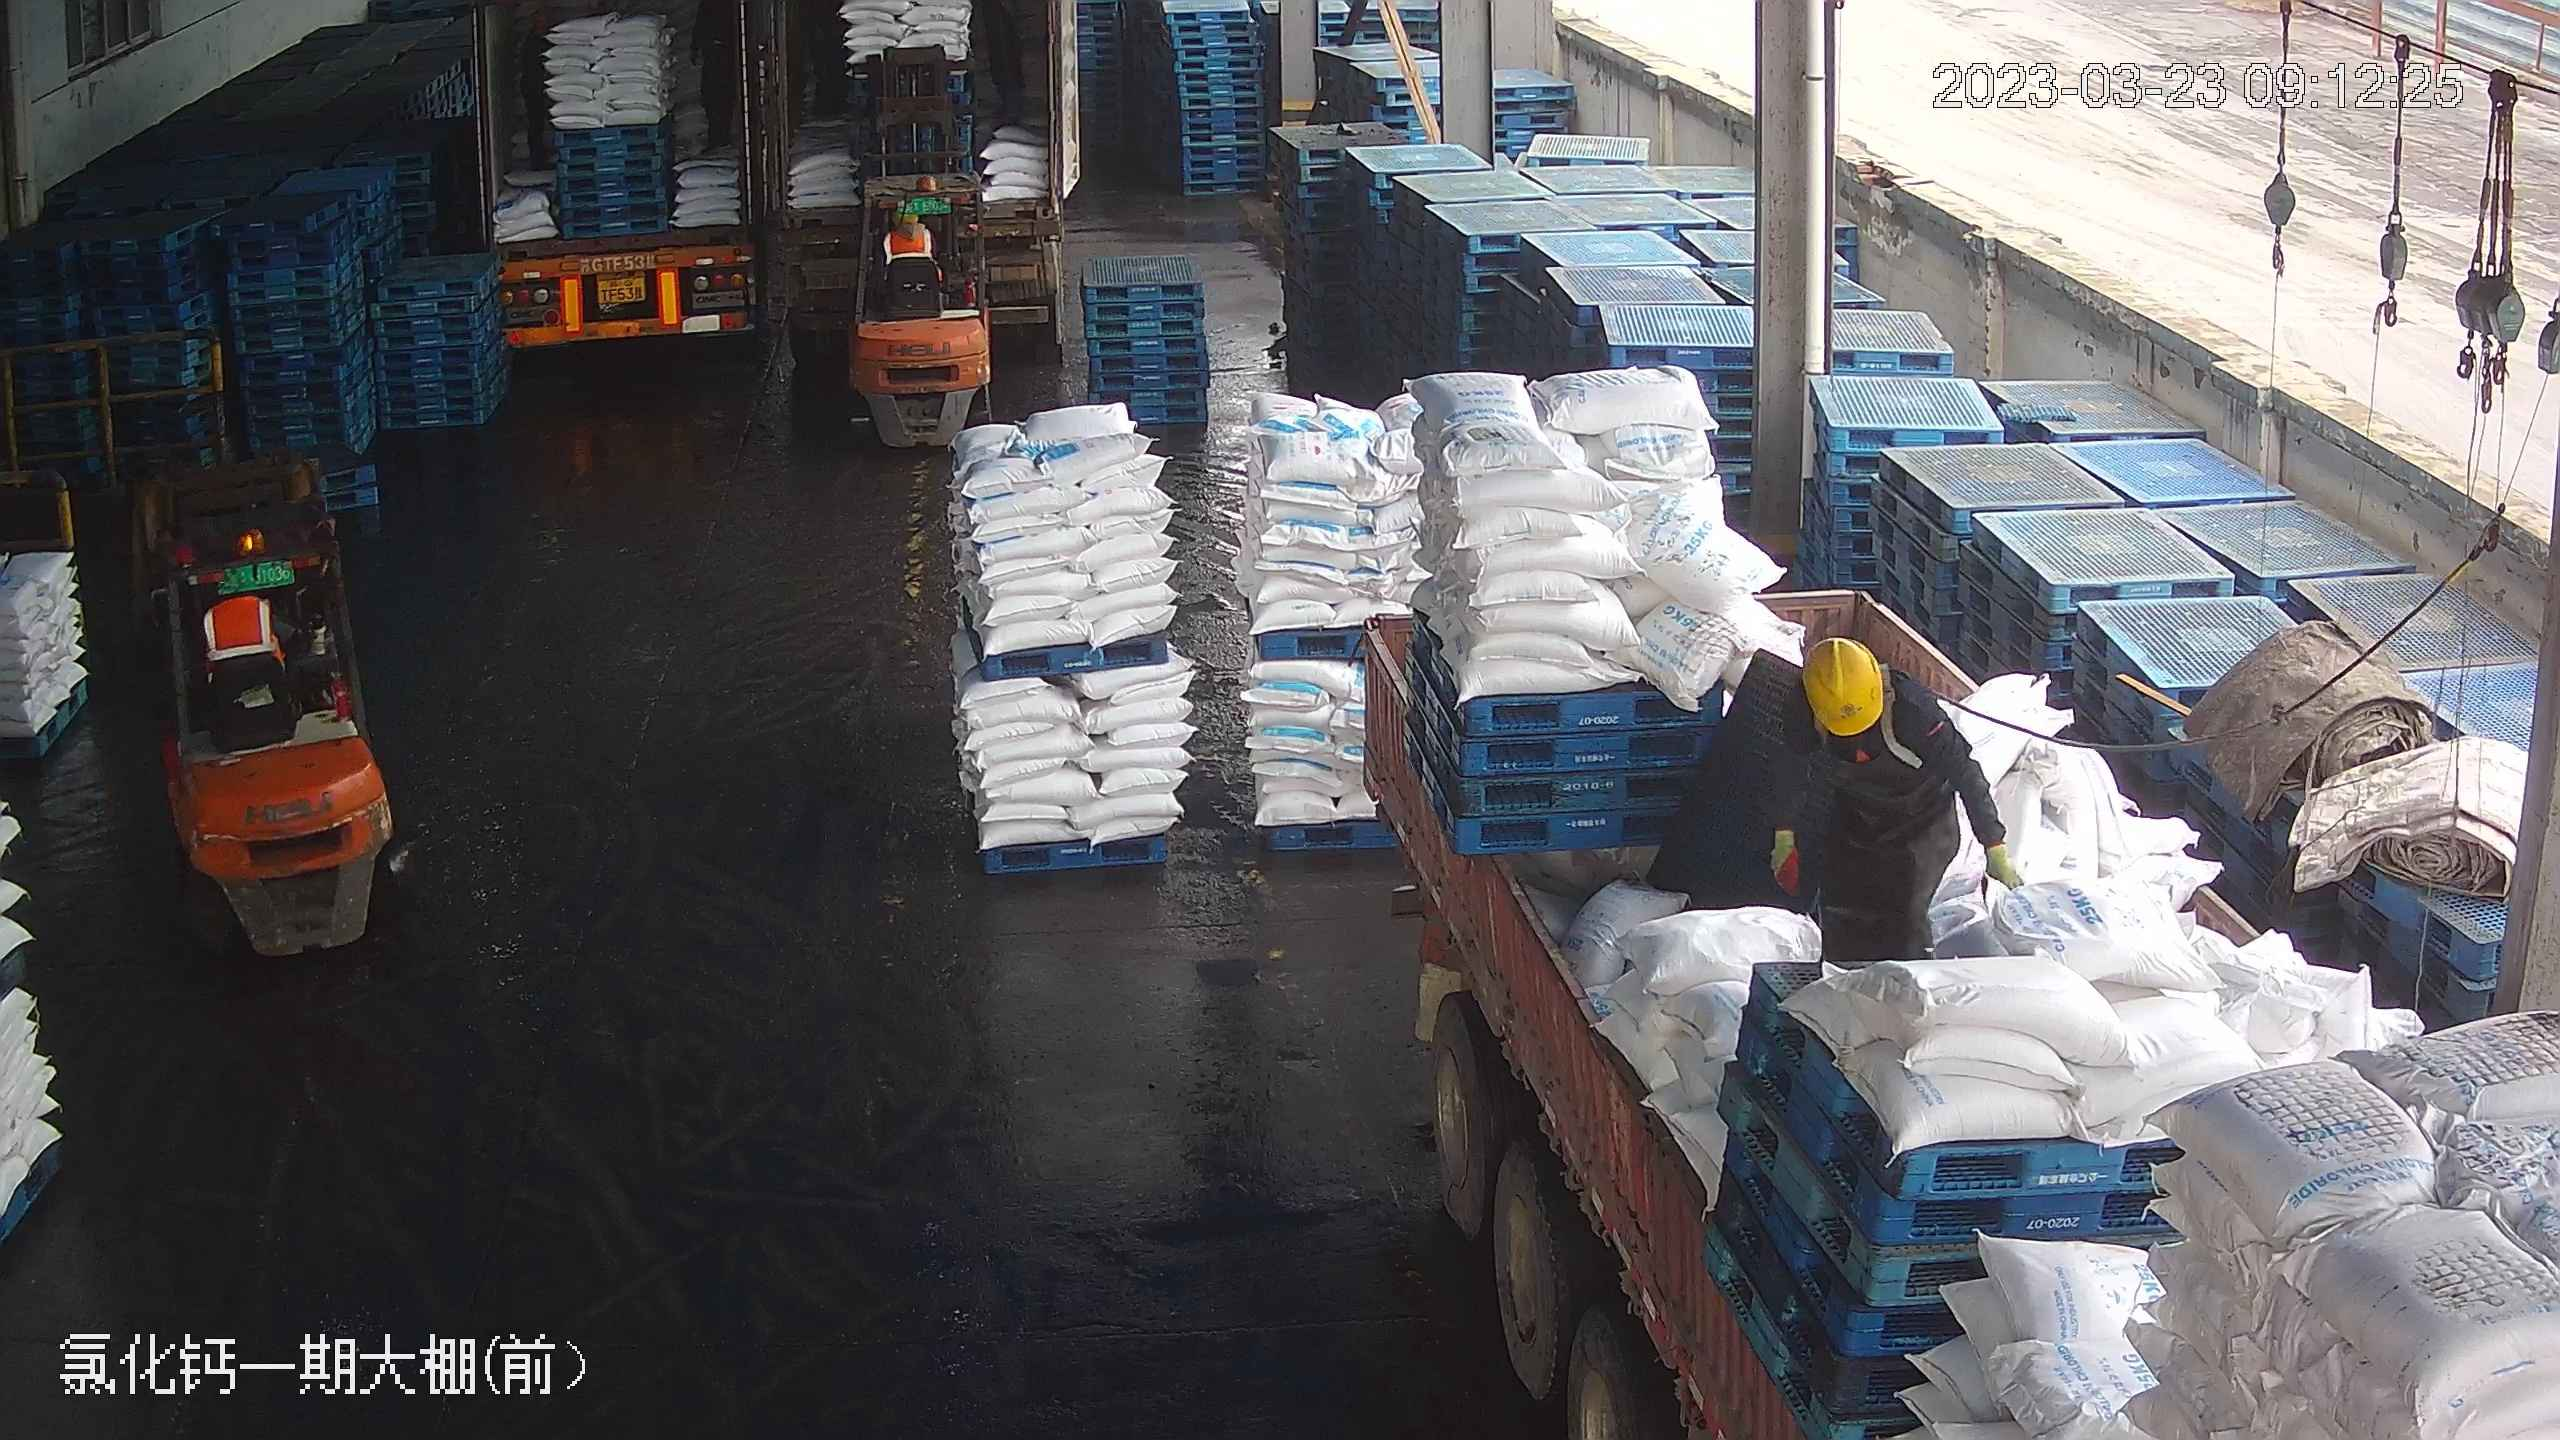belt: (1824, 685, 1927, 773)
head: (1767, 629, 1955, 784)
helmet: (1801, 629, 1887, 738)
people: (1767, 626, 2021, 967)
truck: (1328, 410, 2541, 1430), (462, 4, 788, 352)
